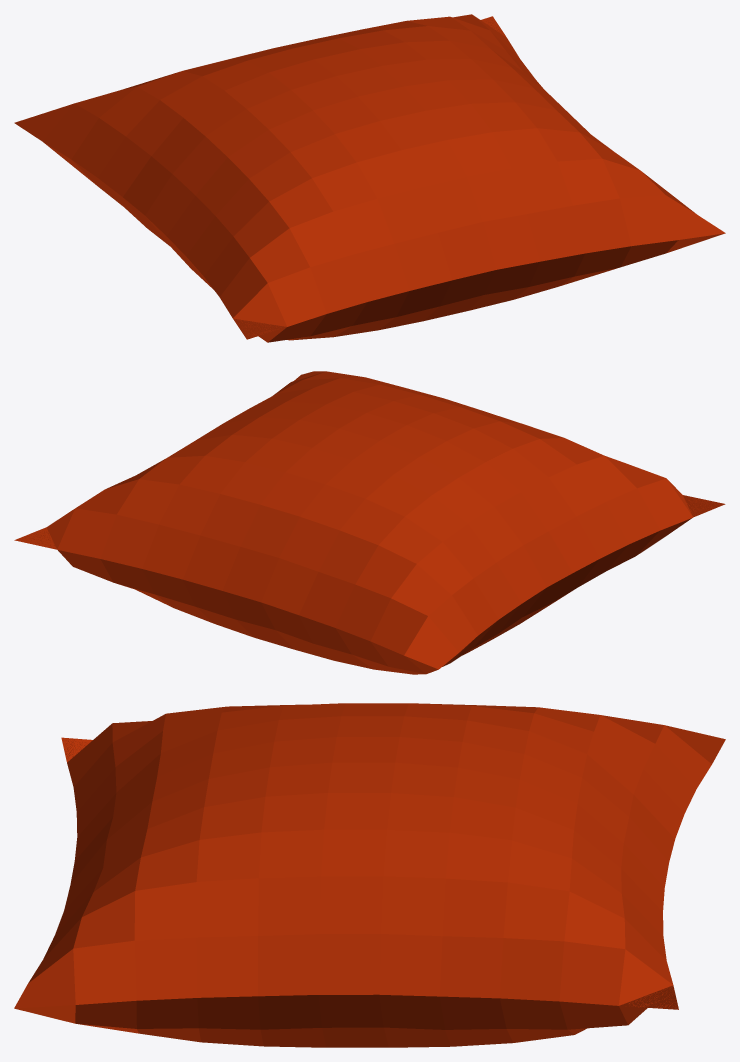
File: pillows.glb
3 renders of one model, top to bottom at view 1: azimuth 30°, elevation 25°; view 2: azimuth 150°, elevation 25°; view 3: azimuth 270°, elevation 25°, orthographic. The views are drawn at different scales.
Visible parts, largest first — view 1: pillow_middl; view 2: pillow_middl; view 3: pillow_middl.
Part boxes in pixels (x1=…): pillow_middl: x1=14, y1=14, x2=725, y2=342; pillow_middl: x1=14, y1=371, x2=725, y2=674; pillow_middl: x1=14, y1=703, x2=725, y2=1047.
Size of the model in its own units: 10.17 by 3.62 by 10.17.
